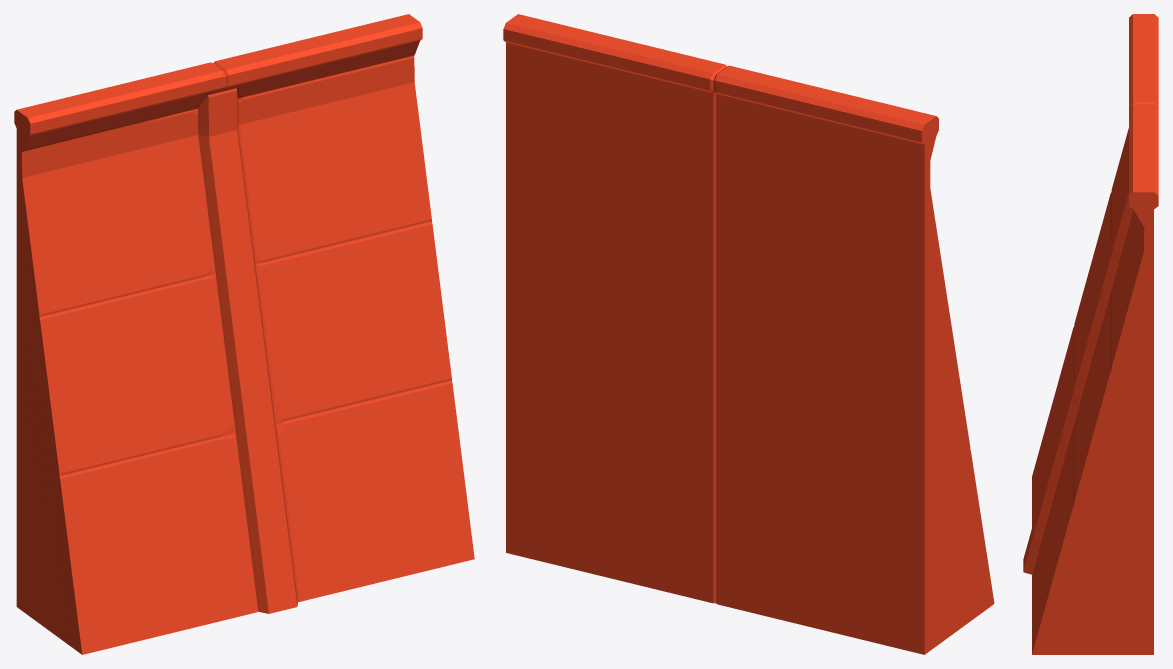
The model's file is SM_Wall_Straight_Short_City.fbx.
3 renders of one model, left to right at view 1: azimuth 30°, elevation 25°; view 2: azimuth 150°, elevation 25°; view 3: azimuth 270°, elevation 25°, orthographic. The views are drawn at different scales.
Visible parts, largest first — view 1: SM_Wall_Straight_Short_City; view 2: SM_Wall_Straight_Short_City; view 3: SM_Wall_Straight_Short_City.
Part boxes in pixels (x1=…): SM_Wall_Straight_Short_City: x1=14, y1=14, x2=474, y2=654; SM_Wall_Straight_Short_City: x1=503, y1=14, x2=994, y2=654; SM_Wall_Straight_Short_City: x1=1023, y1=14, x2=1158, y2=654.
Size of the model in its own units: 10 by 12.1 by 3.21.
